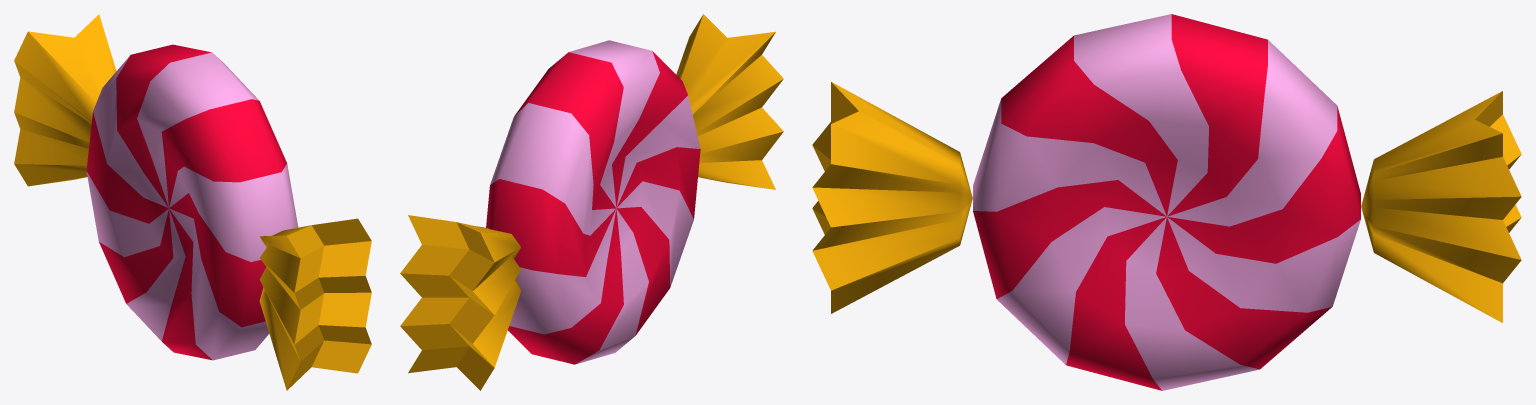
Rendered from wrappedcandyfix.fbx.
The picture shows the model from 3 angles, left to right: view 1: azimuth 30°, elevation 25°; view 2: azimuth 150°, elevation 25°; view 3: azimuth 270°, elevation 25°; orthographic projection. The views are drawn at different scales.
Parts seen in each view (by area): view 1: wrappedcandy; view 2: wrappedcandy; view 3: wrappedcandy.
Boxes of the visible parts, x1,y1,x2,y2 form: wrappedcandy: (14, 14, 371, 390); wrappedcandy: (400, 14, 783, 390); wrappedcandy: (812, 14, 1521, 390).
Bounding box in the file's own units: 63.14 × 200 × 365.
